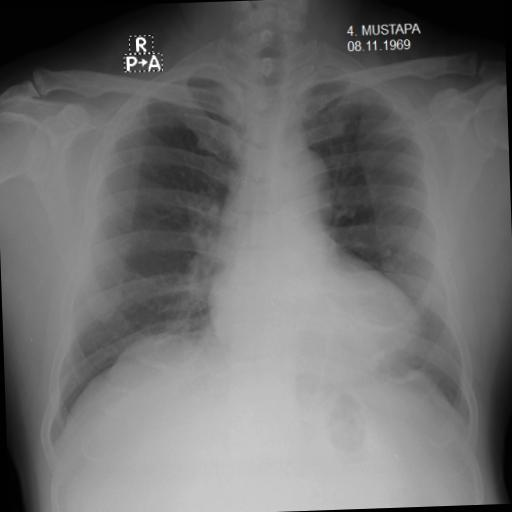kardiomegali: (16, 24, 480, 450)
